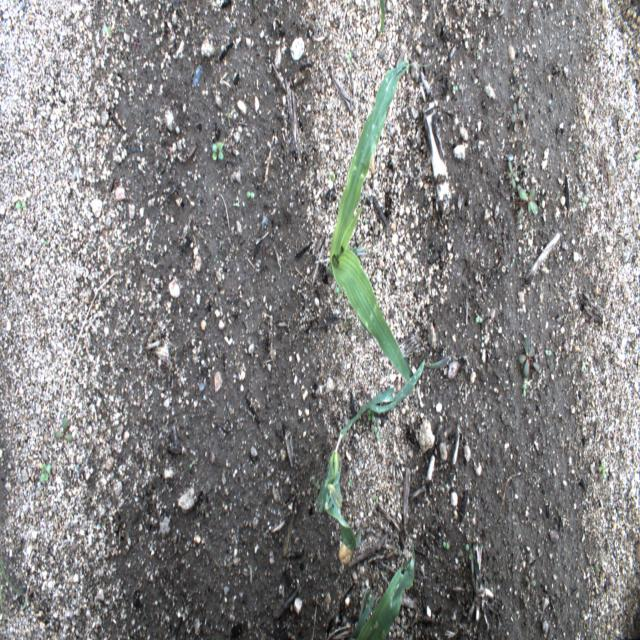crop: (325, 61, 412, 383), (316, 356, 426, 551), (350, 536, 416, 639), (378, 0, 386, 36)
weed: (0, 562, 16, 636), (518, 334, 536, 379), (518, 186, 536, 217), (54, 415, 73, 444), (510, 102, 525, 132), (592, 552, 605, 577), (515, 83, 525, 113), (508, 159, 516, 188), (598, 458, 608, 480), (212, 140, 222, 162), (40, 460, 49, 484), (15, 197, 27, 214), (102, 24, 113, 42), (524, 572, 536, 588), (342, 316, 353, 332), (367, 406, 375, 423), (582, 193, 588, 212), (245, 189, 255, 200), (466, 545, 472, 562), (374, 425, 380, 442), (347, 50, 352, 70), (373, 492, 379, 506), (543, 347, 552, 356), (442, 540, 450, 550), (522, 383, 527, 399), (328, 172, 336, 182), (348, 476, 353, 491), (188, 459, 195, 469), (304, 564, 309, 576), (634, 152, 640, 161)
